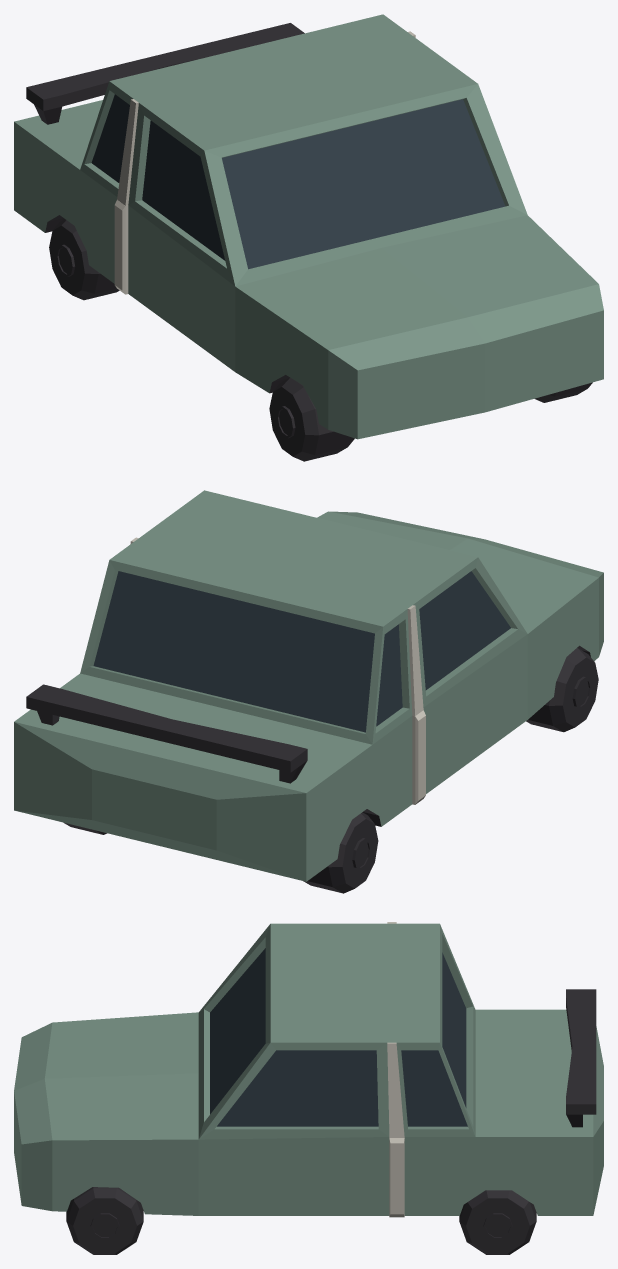
File: car_a.glb
3 renders of one model, top to bottom at view 1: azimuth 30°, elevation 25°; view 2: azimuth 150°, elevation 25°; view 3: azimuth 270°, elevation 25°, orthographic. The views are drawn at different scales.
Visible parts, largest first — view 1: FrontWheels.000; view 2: FrontWheels.000; view 3: FrontWheels.000.
Boxes of the visible parts, x1,y1,x2,y2 form: FrontWheels.000: [14, 14, 603, 461]; FrontWheels.000: [14, 490, 603, 893]; FrontWheels.000: [14, 922, 603, 1254].
Size of the model in its own units: 2.14 by 1.6 by 4.03.
